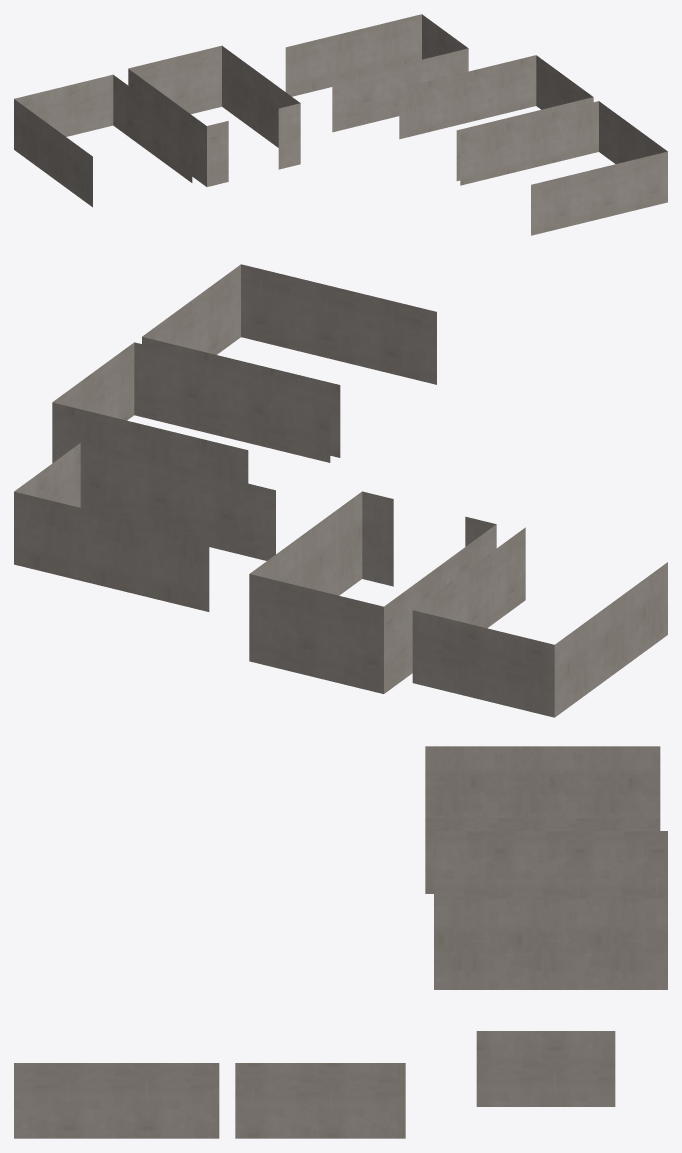
The model's file is Wall.fbx.
3 views of the same model, one above another, from view 1: azimuth 30°, elevation 25°; view 2: azimuth 150°, elevation 25°; view 3: azimuth 270°, elevation 25° (orthographic). The views are drawn at different scales.
Visible parts, largest first — view 1: Wall_R1, Wall_R3, Wall_R4, Wall_R5, Wall_R2; view 2: Wall_R3, Wall_R4, Wall_R2, Wall_R5, Wall_R1; view 3: Wall_R4, Wall_R5, Wall_R1, Wall_R2, Wall_R3.
Part boxes in pixels (x1,y1,x2,y2): Wall_R1: (460, 101, 667, 235); Wall_R3: (285, 14, 468, 132); Wall_R4: (128, 45, 300, 186); Wall_R5: (14, 74, 192, 207); Wall_R2: (399, 55, 593, 180); Wall_R3: (14, 443, 275, 611); Wall_R4: (249, 491, 496, 693); Wall_R2: (52, 342, 330, 483); Wall_R5: (412, 527, 667, 717); Wall_R1: (142, 264, 436, 457); Wall_R4: (434, 831, 667, 989); Wall_R5: (425, 746, 660, 893); Wall_R1: (14, 1063, 219, 1138); Wall_R2: (235, 1063, 405, 1138); Wall_R3: (476, 1031, 615, 1106).
Bounding box in the file's own units: 1794 × 240 × 1566.
